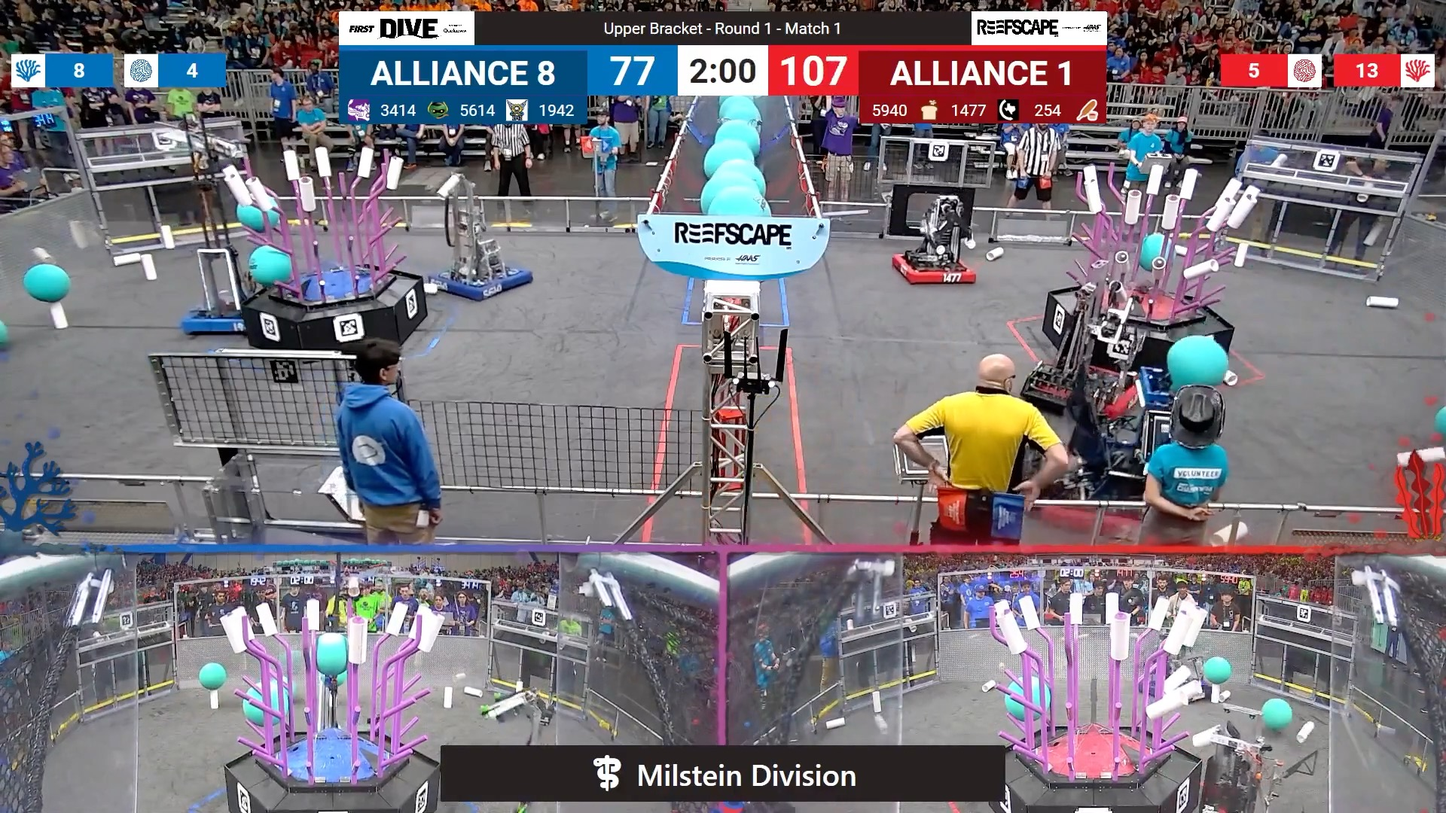bumpers: (1024, 480, 1170, 548), (1022, 364, 1150, 425), (429, 259, 544, 305), (883, 247, 984, 292), (180, 291, 262, 340)
